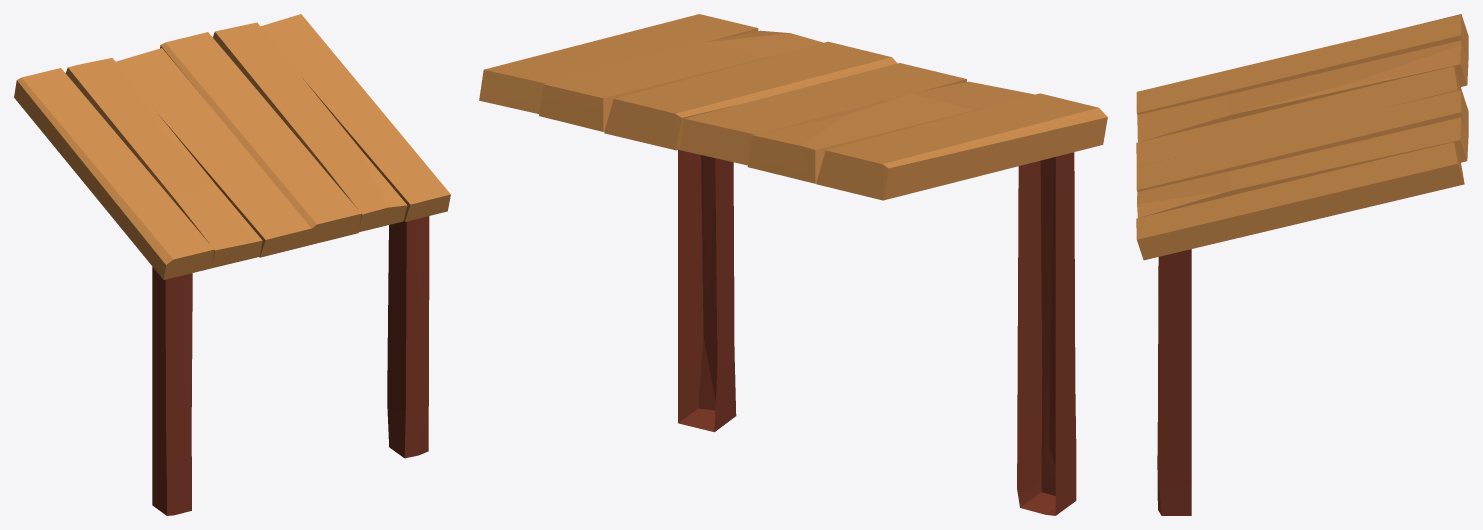
The model's file is House_Gate_Part_A.fbx.
The picture shows the model from 3 angles, left to right: view 1: azimuth 30°, elevation 25°; view 2: azimuth 150°, elevation 25°; view 3: azimuth 270°, elevation 25°; orthographic projection. The views are drawn at different scales.
Visible parts, largest first — view 1: House_Gate_Part_A; view 2: House_Gate_Part_A; view 3: House_Gate_Part_A.
Part boxes in pixels (left/top/right/bottom): House_Gate_Part_A: left=14, top=14, right=450, bottom=515; House_Gate_Part_A: left=479, top=14, right=1107, bottom=515; House_Gate_Part_A: left=1136, top=14, right=1468, bottom=515.
Size of the model in its own units: 186 by 211 by 176.
